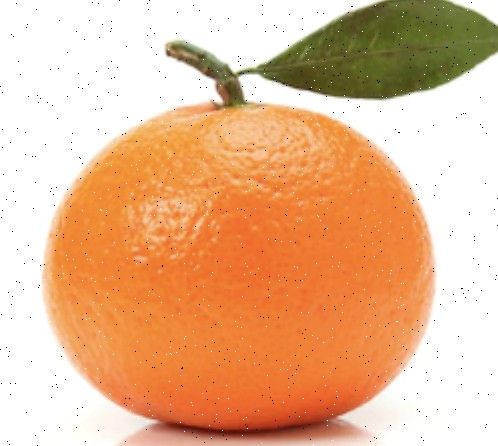fresh_orange: (40, 98, 438, 432)
